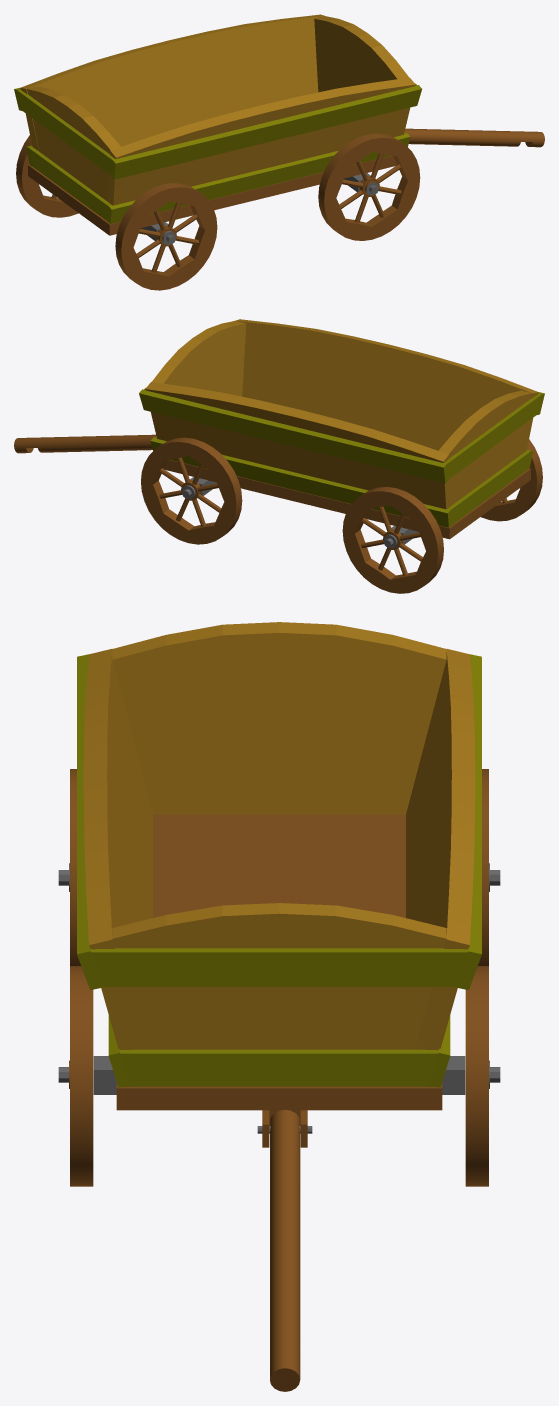
File: телега1.1.2.fbx
The picture shows the model from 3 angles, top to bottom: view 1: azimuth 30°, elevation 25°; view 2: azimuth 150°, elevation 25°; view 3: azimuth 270°, elevation 25°; orthographic projection. The views are drawn at different scales.
Visible parts, largest first — view 1: Cube.002; view 2: Cube.002; view 3: Cube.002.
Boxes of the visible parts, left/top/right/bottom form: Cube.002: left=14, top=14, right=544, bottom=290; Cube.002: left=14, top=319, right=544, bottom=593; Cube.002: left=58, top=622, right=500, bottom=1391.
Bounding box in the file's own units: 2.6 × 0.8114 × 1.05.
